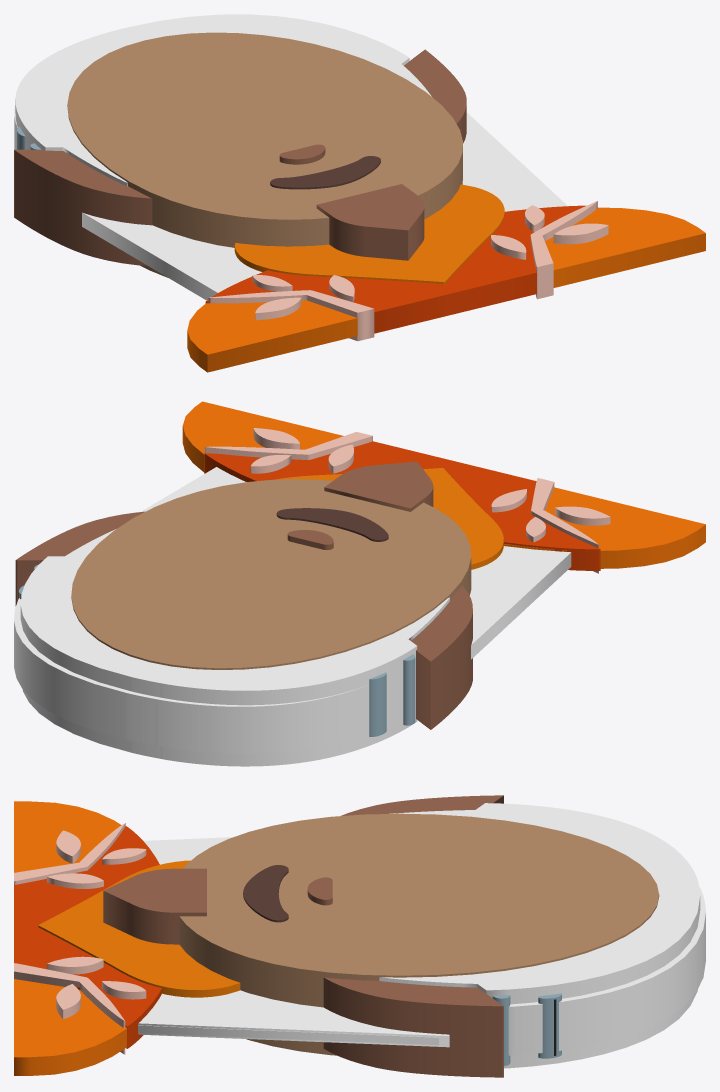
The model's file is emoji_u1f9dd_1f3fd.glb.
The picture shows the model from 3 angles, top to bottom: view 1: azimuth 30°, elevation 25°; view 2: azimuth 150°, elevation 25°; view 3: azimuth 270°, elevation 25°; orthographic projection. The views are drawn at different scales.
Visible parts, largest first — view 1: emoji_u1f9dd_1f3fd; view 2: emoji_u1f9dd_1f3fd; view 3: emoji_u1f9dd_1f3fd.
Boxes of the visible parts, box(x1,y1,x2,y2) form: emoji_u1f9dd_1f3fd: box(14, 14, 705, 372); emoji_u1f9dd_1f3fd: box(14, 401, 705, 766); emoji_u1f9dd_1f3fd: box(14, 795, 705, 1077).
Size of the model in its own units: 0.0292 by 0.005 by 0.0334.
